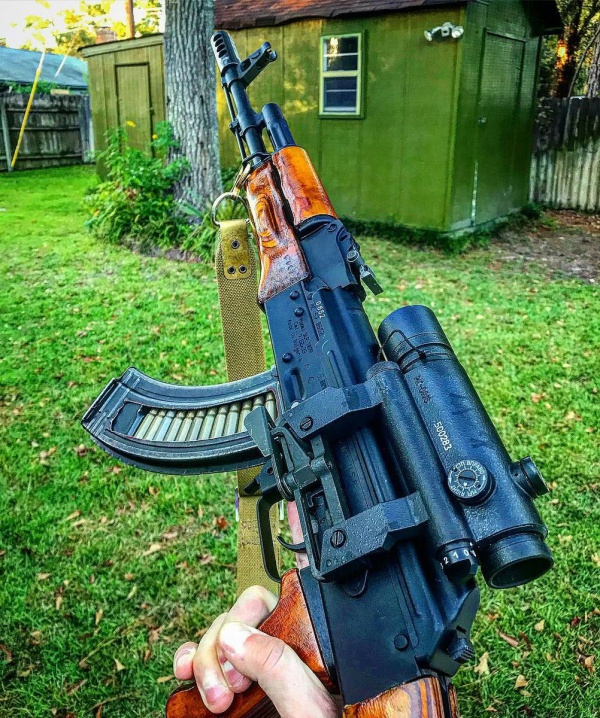ak47: (87, 32, 543, 686)
